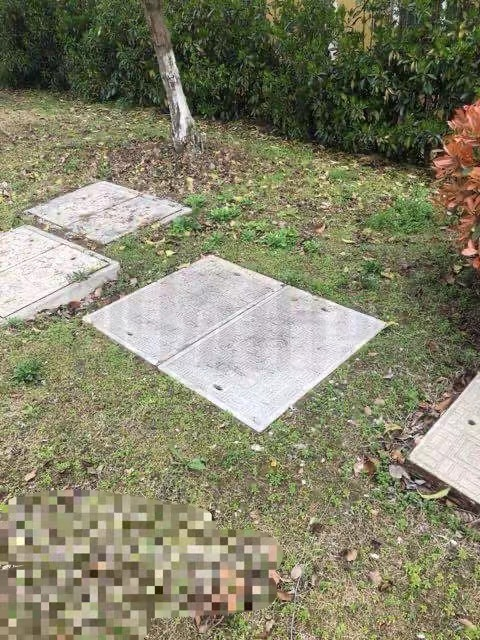well: (64, 254, 389, 432), (395, 351, 480, 541), (18, 178, 190, 248), (0, 226, 119, 326)
